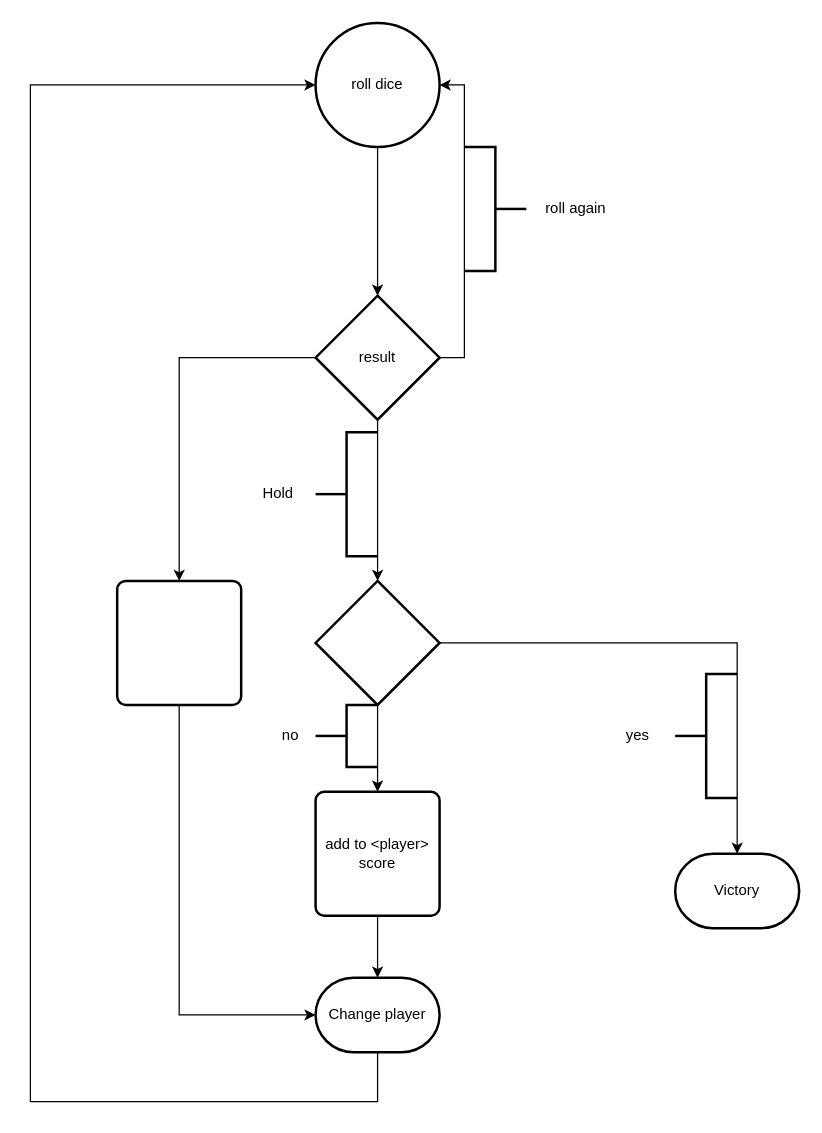
Image size: 822x1133. Some labels were removed from this diagram. Each missing label, with the box of its shape:
clear hold score: (115, 579, 242, 706)
is score ≥ 100: (314, 579, 440, 706)
